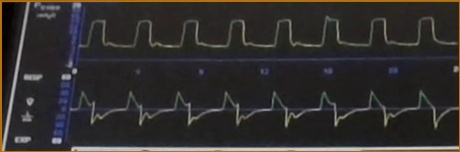Premature_cycling Flow: (74, 76, 458, 146)
